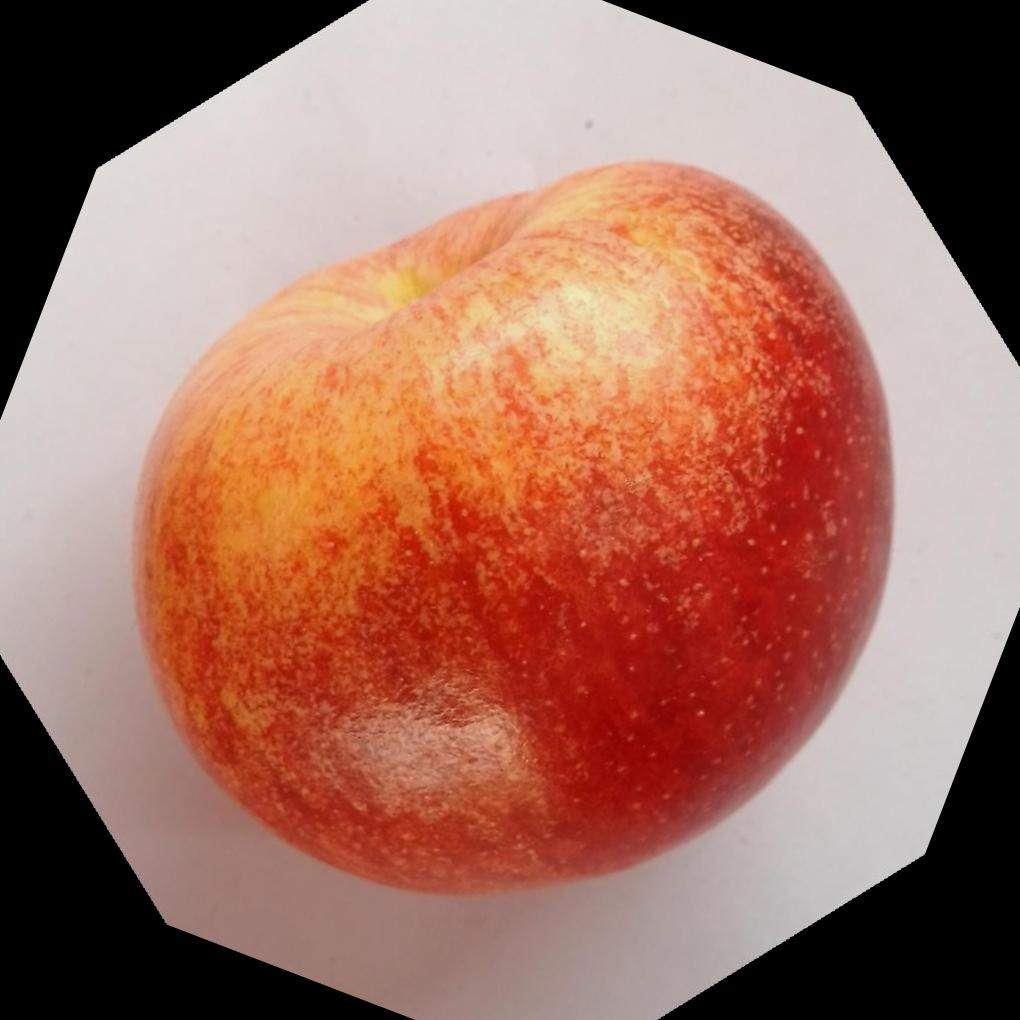FreshGuava: (130, 153, 900, 896)
